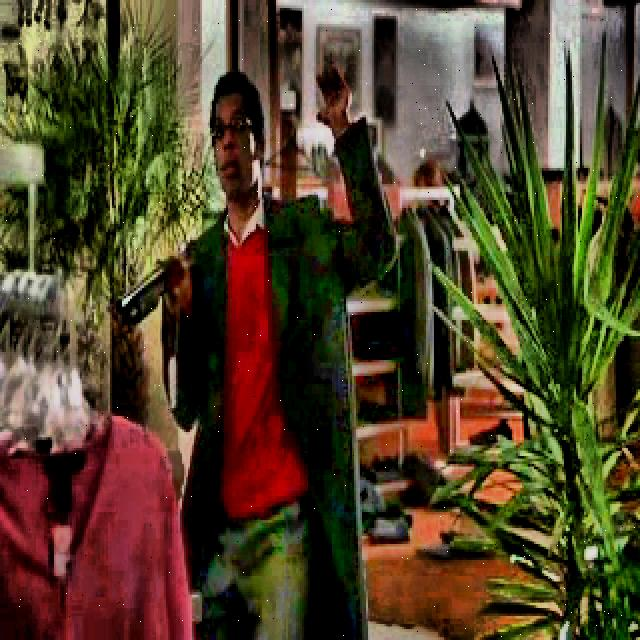L: (113, 59, 396, 636)
